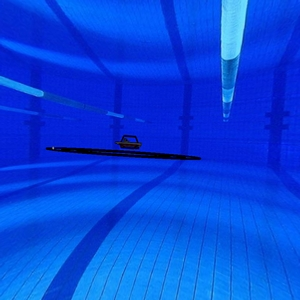circle: (45, 144, 203, 162)
submarine: (116, 134, 144, 154)
